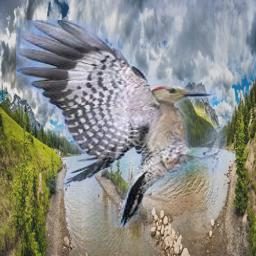Woodpecker: (16, 20, 227, 227)
